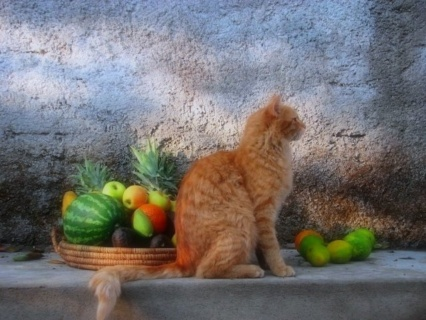Cat: (89, 90, 304, 319)
